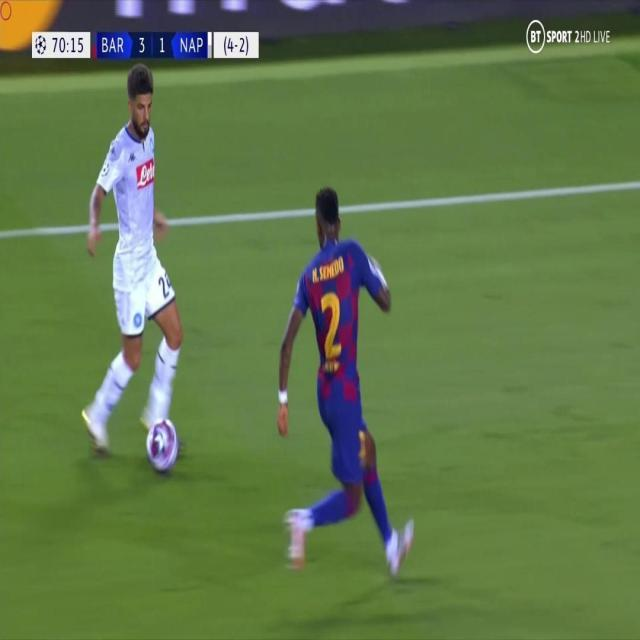ball: (143, 411, 183, 478)
player: (269, 185, 416, 588), (69, 48, 200, 479)
